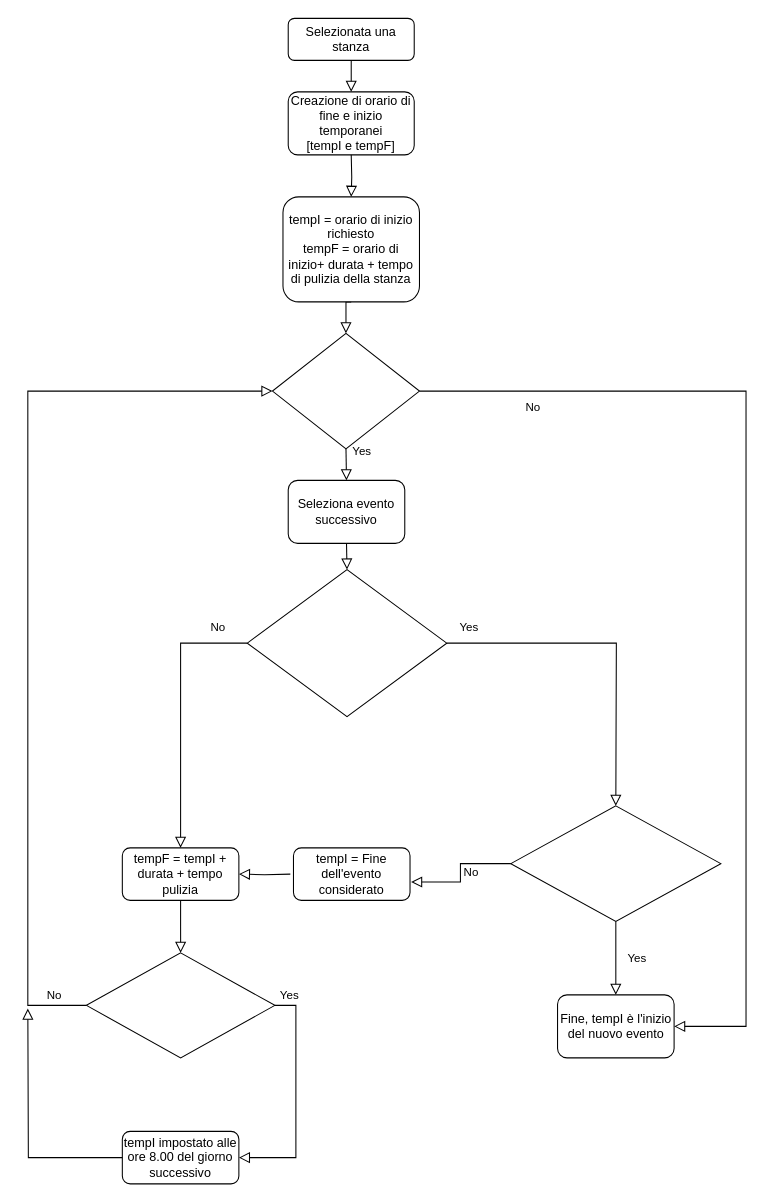
Image size: 775x1202. Some labels were removed from this diagram. The centre of each missing label's shape, as x and y in pixels:
"CI sono altri eventi?" goes at point 345,390.
"L'evento considerato è nello stesso giorno di tempI?" goes at point 346,643.
"L'inizio del nuovo evento è maggiore di tempF?" goes at point 615,863.
"tempF supera le ore 20.00?" goes at point 180,1005.
